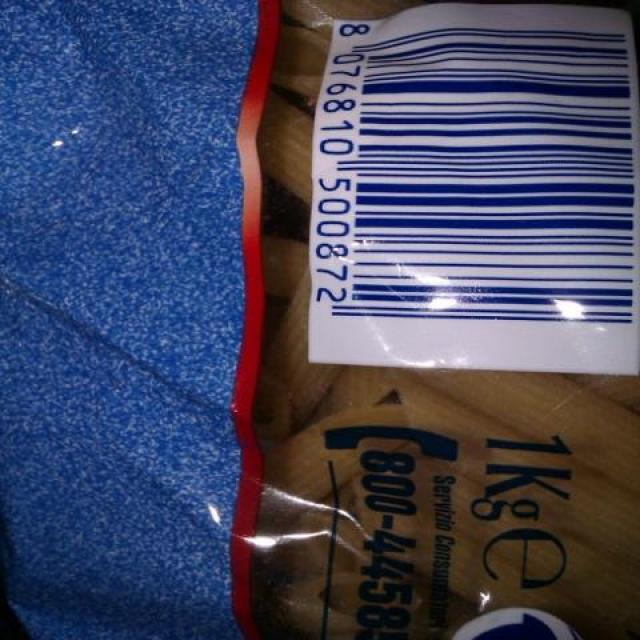Barcode: (311, 5, 637, 363)
